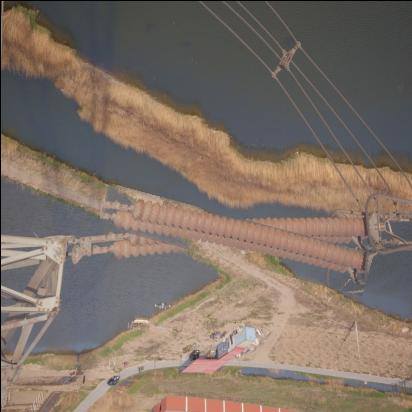insulator: (98, 200, 374, 279)
